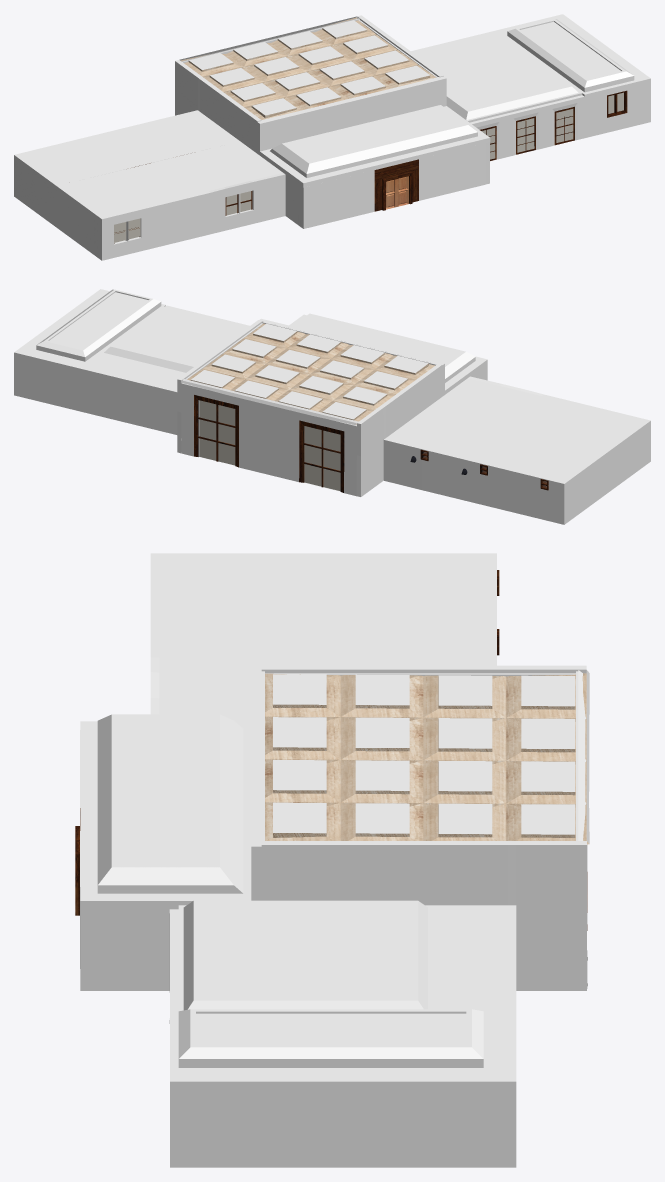
File: wisteria_map.glb
3 views of the same model, one above another, from view 1: azimuth 30°, elevation 25°; view 2: azimuth 150°, elevation 25°; view 3: azimuth 270°, elevation 25° (orthographic). The views are drawn at different scales.
Visible parts, largest first — view 1: MainWalls, BedroomA, BedroomB; view 2: MainWalls; view 3: MainWalls.
Boxes of the visible parts, x1,y1,x2,y2 form: MainWalls: (14,14,650,260); BedroomA: (225,191,252,215); BedroomB: (114,218,140,243); MainWalls: (14,289,650,524); MainWalls: (75,553,589,1167).
Size of the model in its own units: 105 by 14.06 by 42.75.
123 materials, 34 textured.
